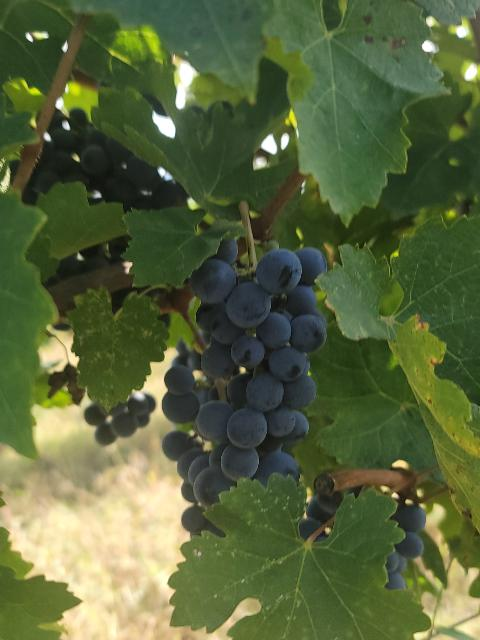grapes: (162, 240, 328, 535), (22, 109, 189, 211), (44, 236, 129, 290), (85, 391, 156, 445)
